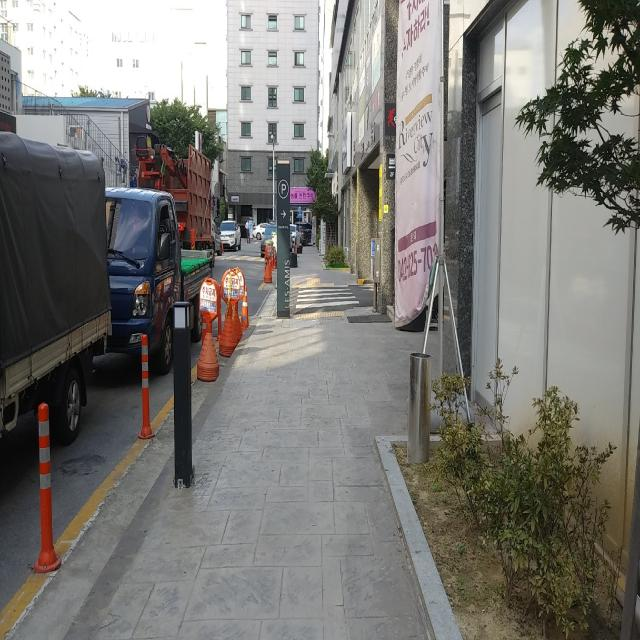횡단보도: (295, 284, 360, 310)
